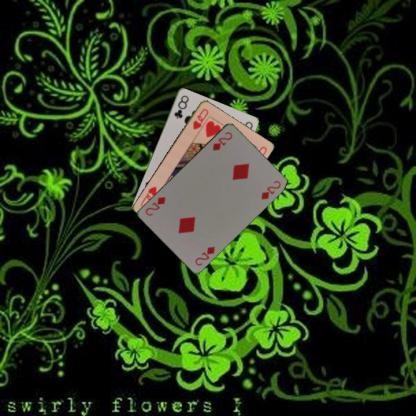2d: (192, 244, 216, 266), (210, 129, 233, 151)
8c: (171, 92, 190, 119)
Qh: (190, 106, 210, 130)
